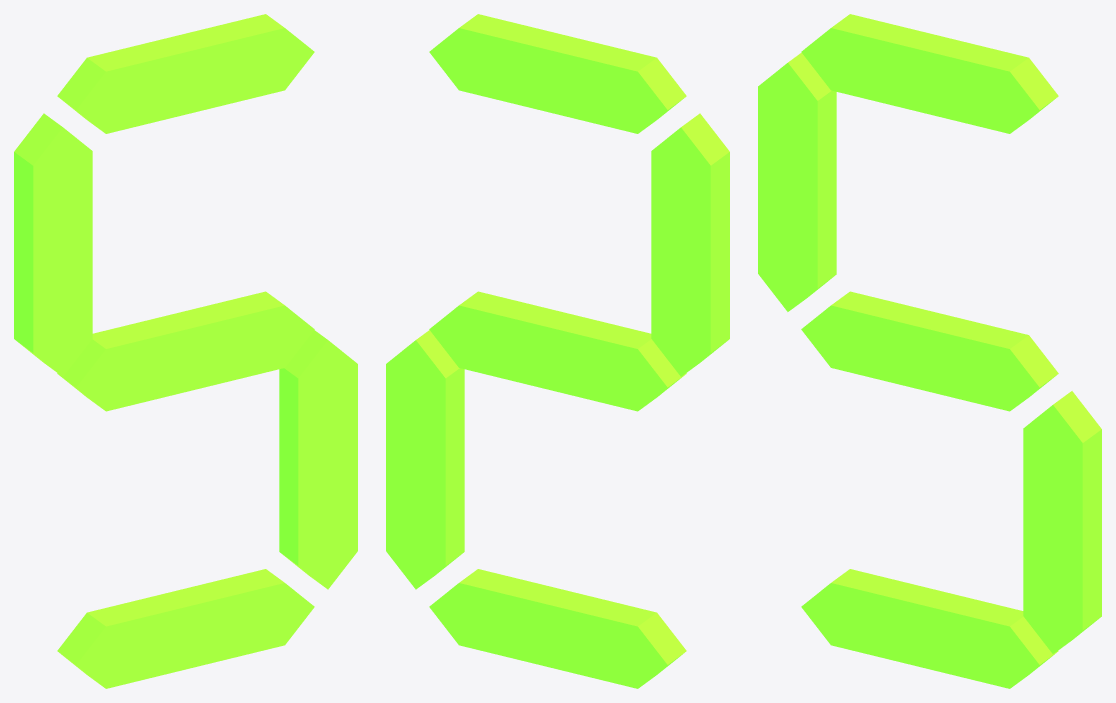
File: number5.glb
The picture shows the model from 3 angles, left to right: view 1: azimuth 30°, elevation 25°; view 2: azimuth 150°, elevation 25°; view 3: azimuth 330°, elevation 25°; orthographic projection.
Parts seen in each view (by area): view 1: Cube.006; view 2: Cube.006; view 3: Cube.006.
Boxes of the visible parts, x1,y1,x2,y2 form: Cube.006: (14,14,357,688); Cube.006: (386,14,729,688); Cube.006: (758,14,1101,688).
Bounding box in the file's own units: 9.8 × 17.8 × 1.
